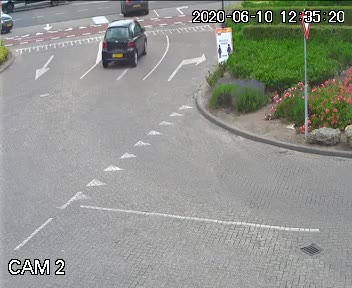car: (94, 18, 145, 77), (116, 0, 151, 17)
